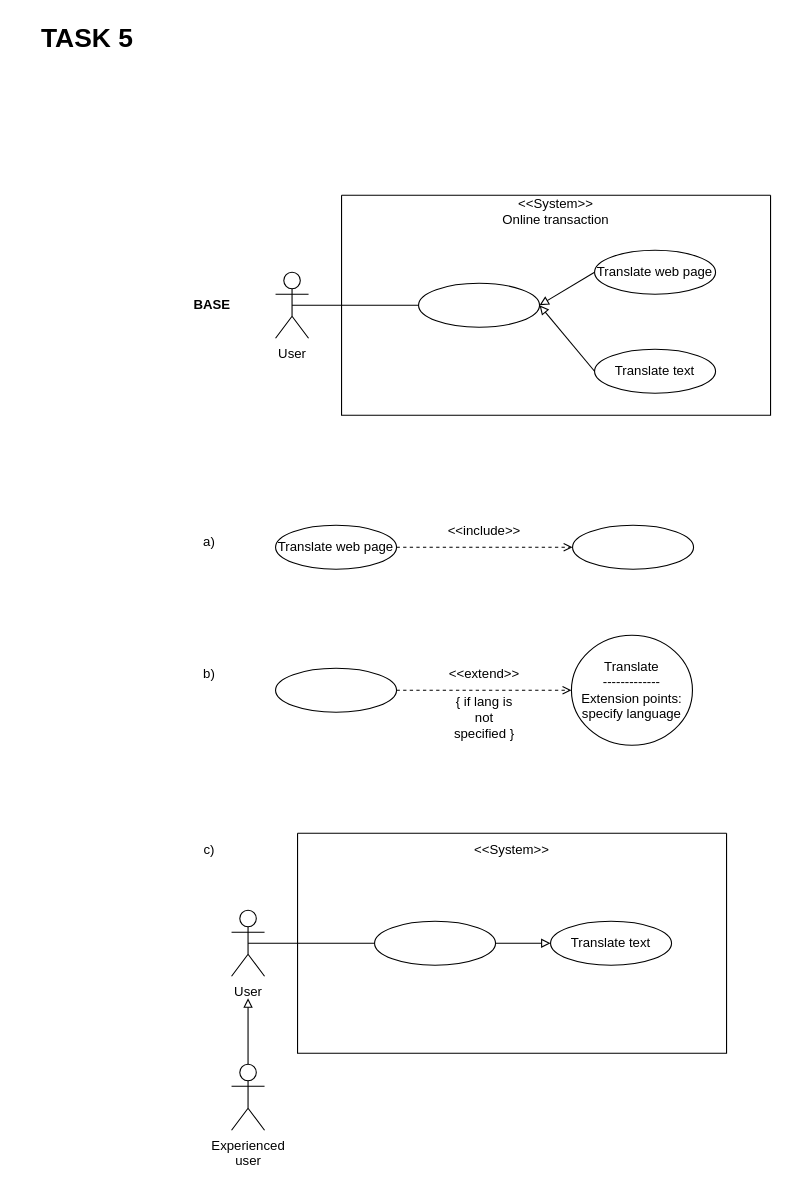
Image size: 790x1188. Some labels were removed from this diagram. The shapes that lost their labels are listed below. From the top down, each one's box as (x1, y1, x2, y2) in pixels, then its label:
(417, 282, 540, 327): {abstract} Translate
(571, 524, 694, 569): Set URL
(274, 667, 397, 712): Set language
(373, 920, 496, 965): Propose translation
